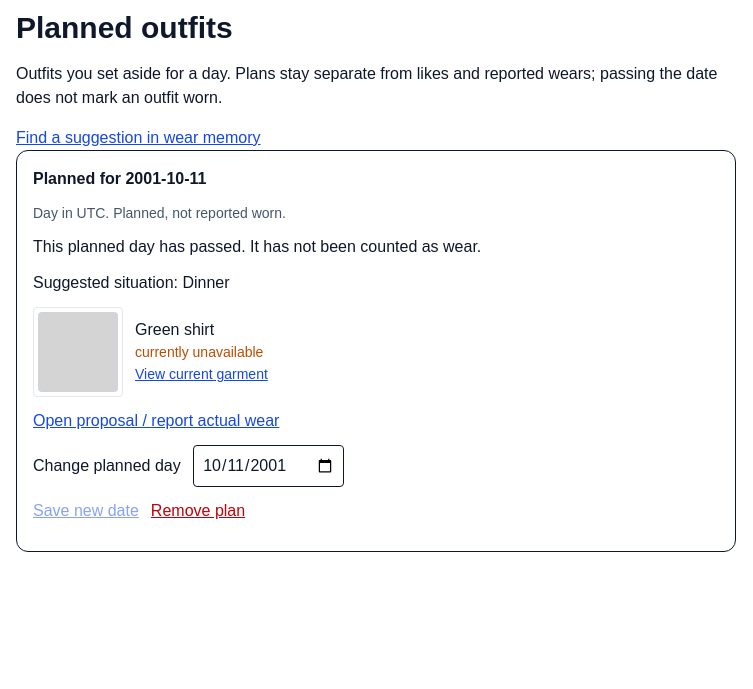
it: reuses a reschedule request after lost acknowledgement, then refreshes the list
The width and height of the screenshot is (753, 689).
Expected: the text "Green shirt" is shown, left=135, top=321, right=214, bottom=338
Type "2099-10-12" into the date field labelled "Change planned day" at (269, 466), box left=193, top=445, right=344, bottom=487
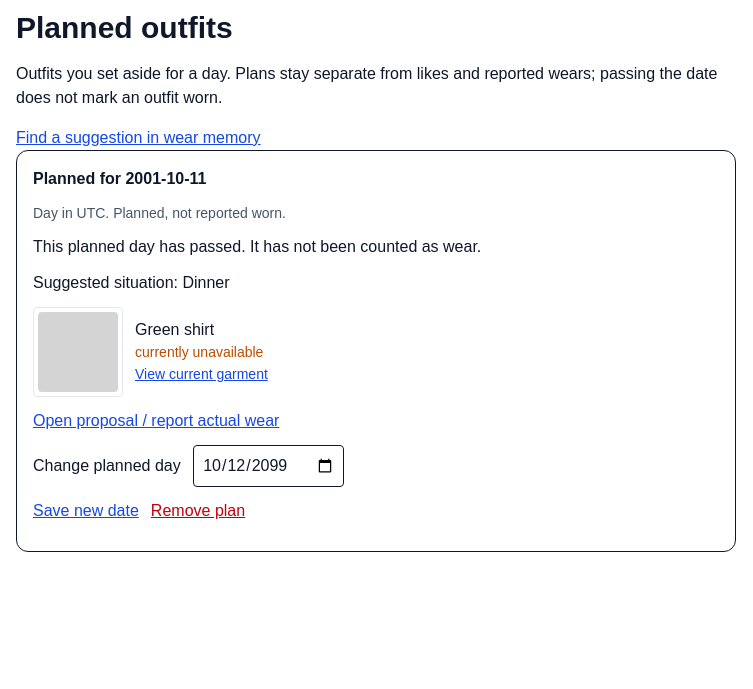
Click the button "Save new date" at (86, 511), box left=33, top=499, right=139, bottom=523
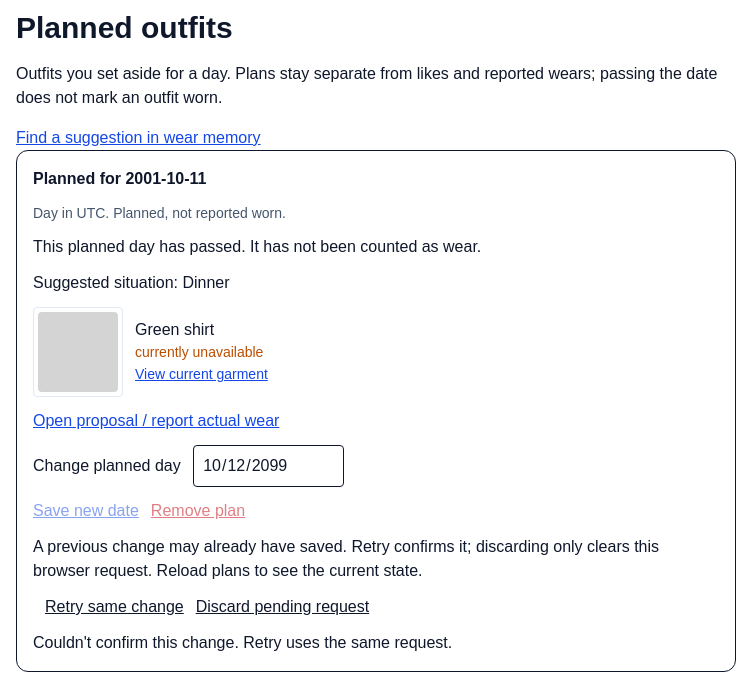
Now the message "Couldn't confirm this change. Retry uses the same request." is shown, box left=33, top=634, right=452, bottom=651
Click the button "Retry same change" at (114, 607), box left=45, top=595, right=184, bottom=619
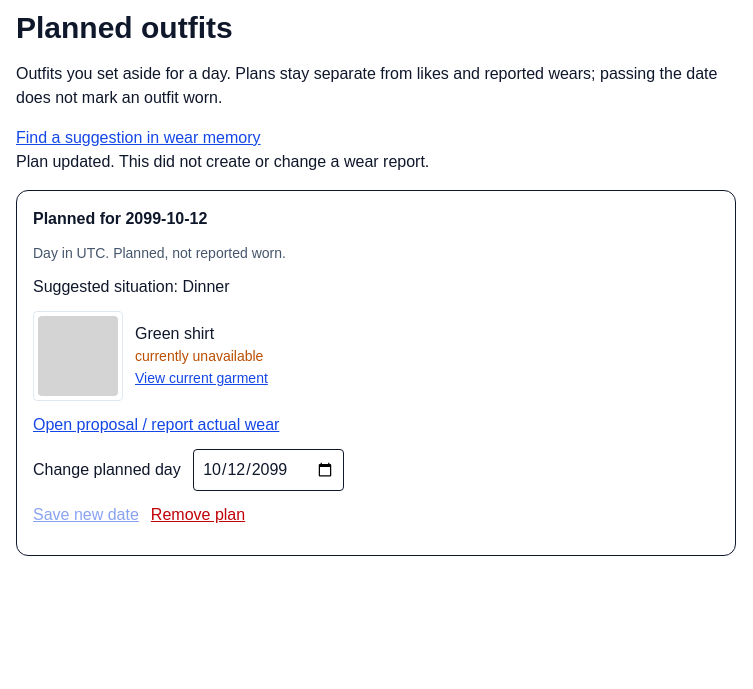
Now the heading "Planned for 2099-10-12" is shown, box left=33, top=210, right=207, bottom=227
